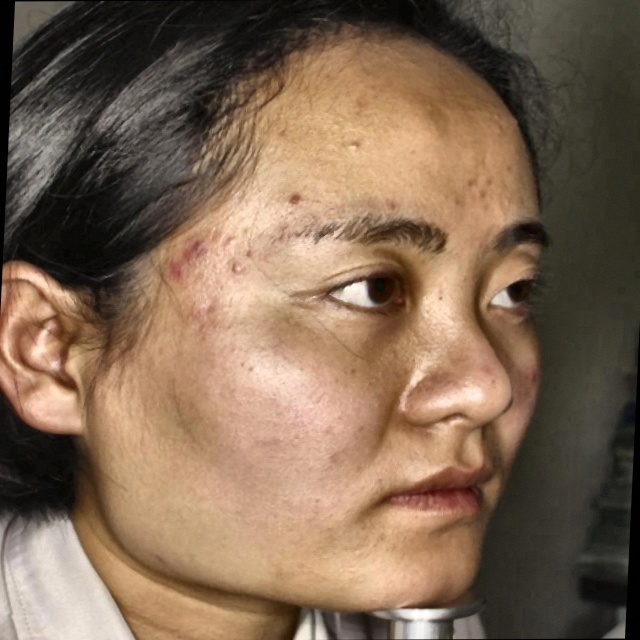comedone: (466, 171, 494, 202), (162, 253, 189, 284), (180, 230, 207, 253)
